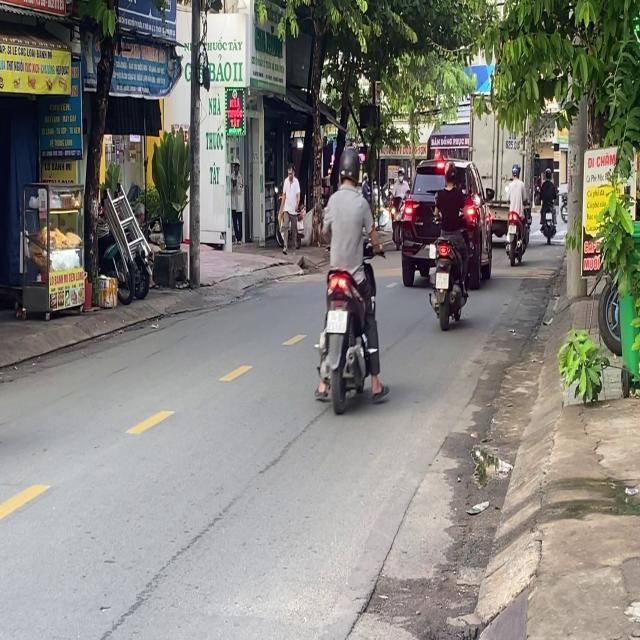helmet: (338, 146, 361, 186), (443, 160, 456, 187)
licenseplate: (314, 144, 386, 412), (429, 157, 470, 328)
nohelmet: (326, 310, 347, 332), (435, 272, 448, 289)
